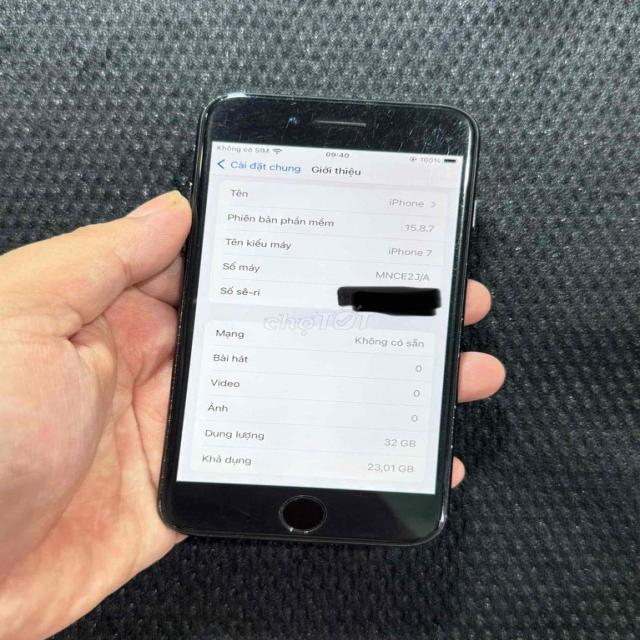gen_7_8: (152, 90, 483, 550)
scratch: (194, 94, 475, 170), (156, 270, 182, 532), (269, 492, 332, 534), (437, 391, 469, 456), (413, 498, 455, 541)
